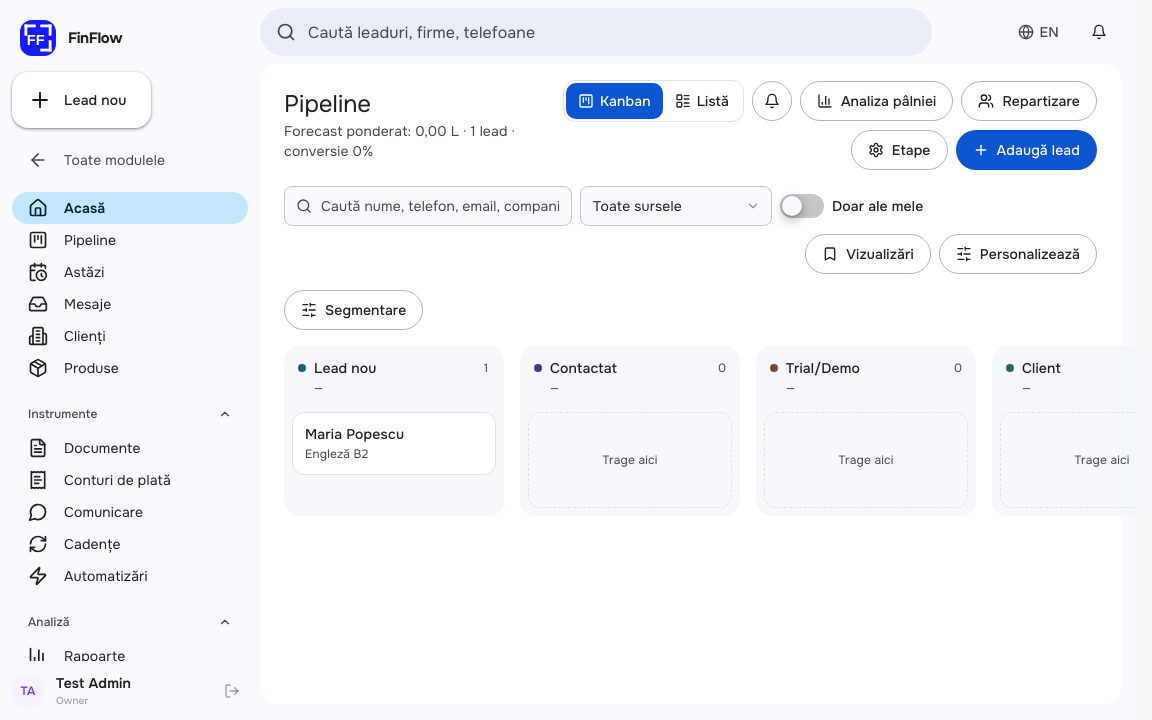
Test: CRM (Faza 1) — StageEditorDialog › editorul de etape refuză ștergerea unei etape cu lead-uri, cu mesaj explicit
Click the button "Etape": click(899, 150) [851,130,948,170]
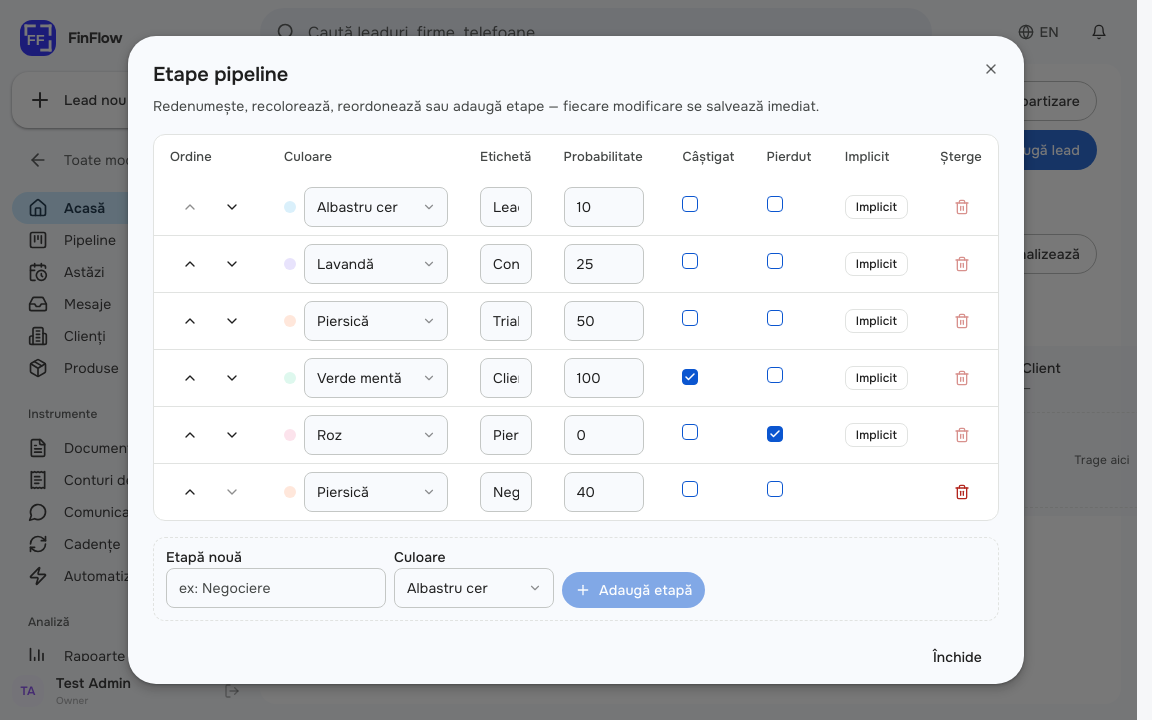
Click the button named "Șterge etapa Negociere": click(962, 492) [942,472,982,512]
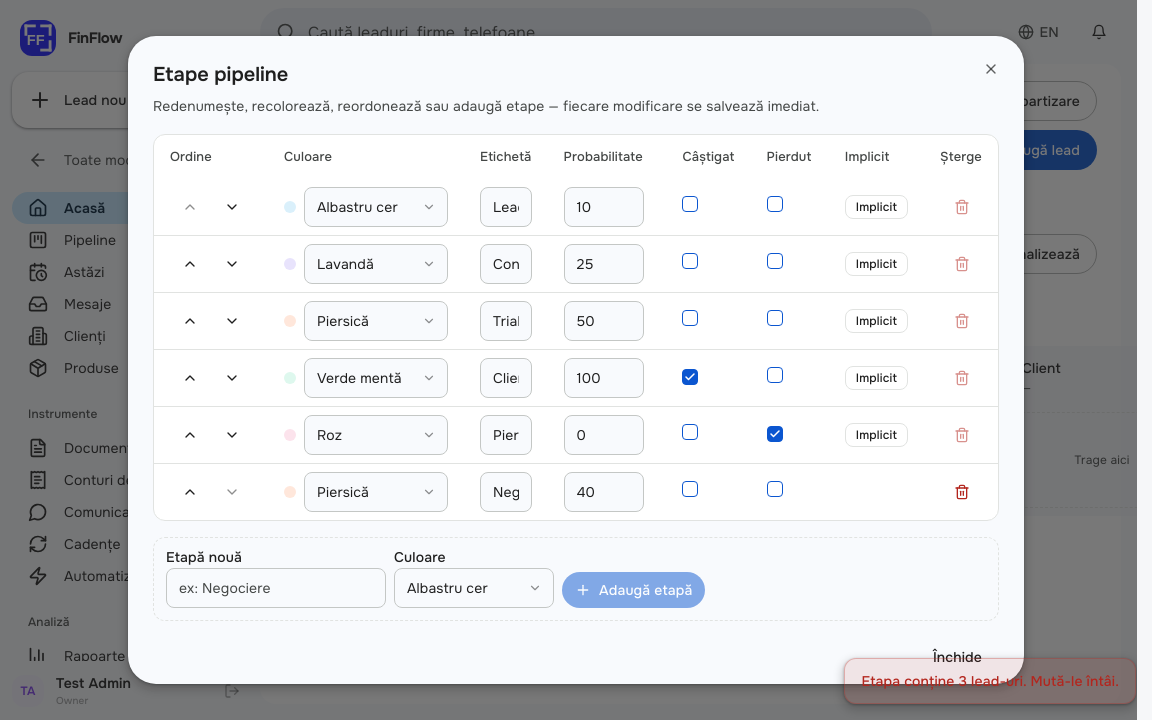
Expected: the text "Etapa conține 3 lead-uri. Mută-le întâi." is shown, [844,658,1136,704]
